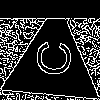C: (27, 38, 72, 78)
